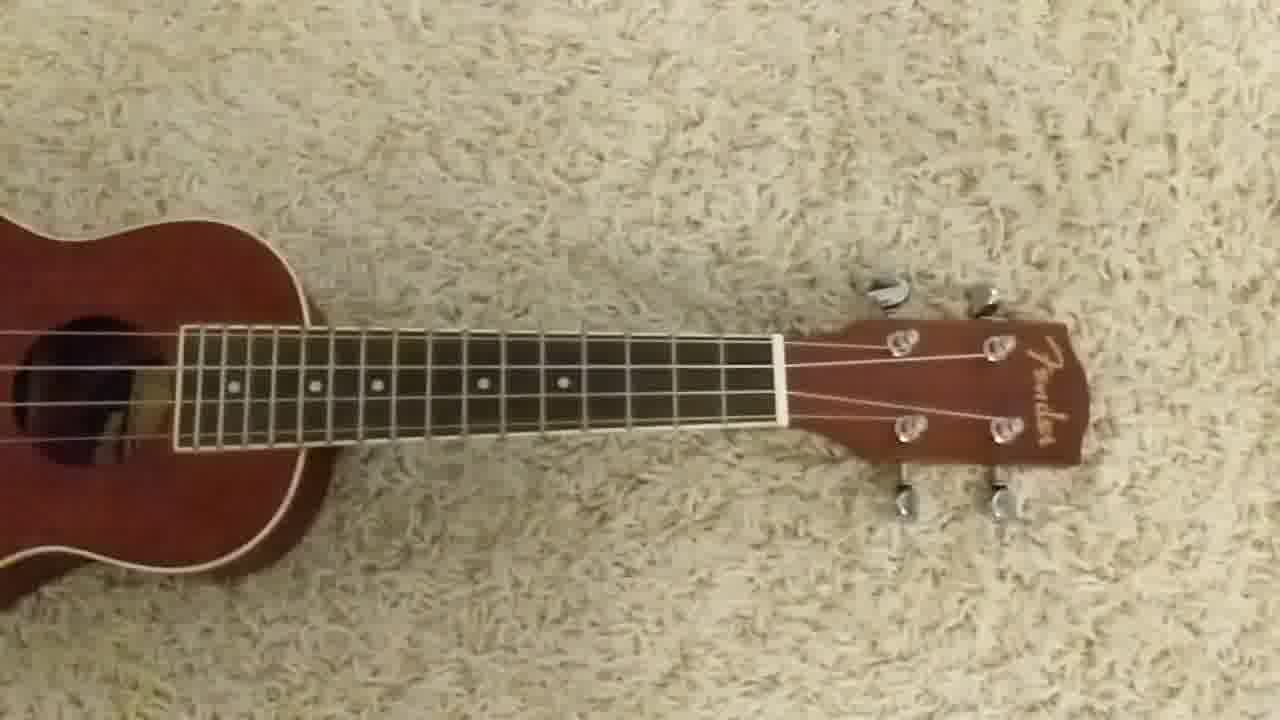Body: (1, 205, 345, 611)
Headstock: (788, 271, 1093, 522)
